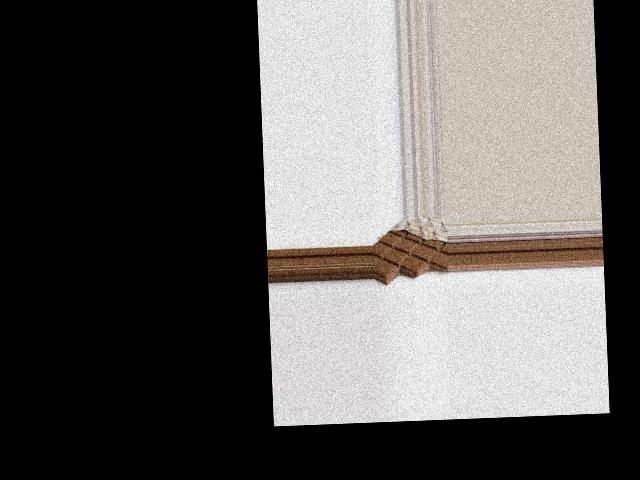chocolate: (372, 217, 450, 279)
